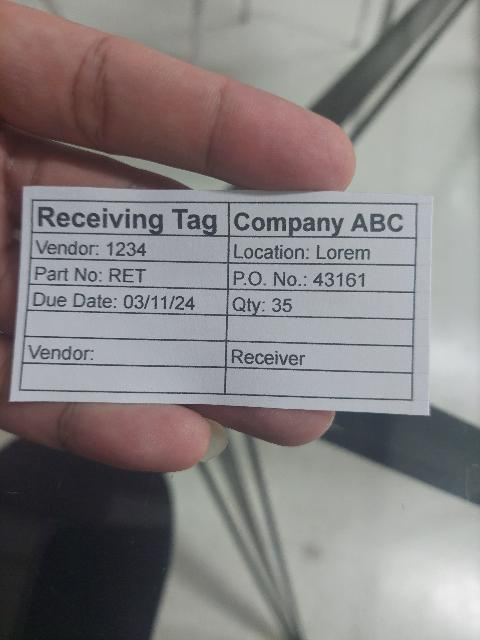PO no: (229, 262, 415, 293)
part no: (30, 256, 230, 292)
qty: (226, 289, 417, 319)
tags: (9, 187, 433, 418)
